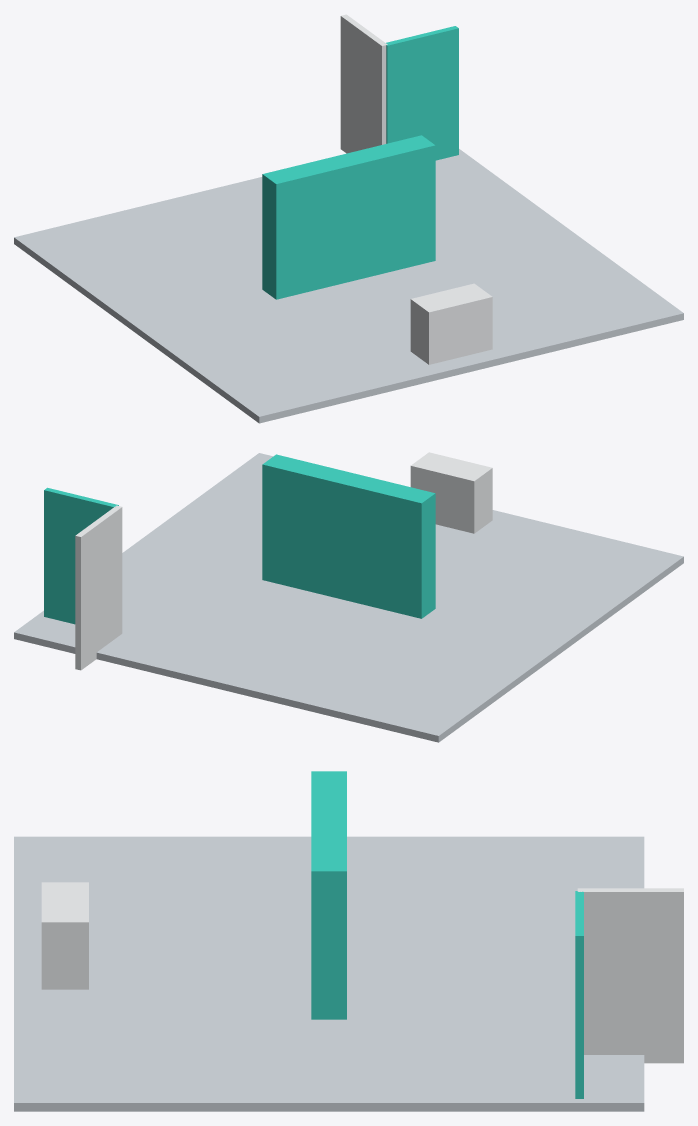
3 renders of one model, top to bottom at view 1: azimuth 30°, elevation 25°; view 2: azimuth 150°, elevation 25°; view 3: azimuth 270°, elevation 25°, orthographic. The views are drawn at different scales.
Visible parts, largest first — view 1: Exhibition Booth Concept; view 2: Exhibition Booth Concept; view 3: Exhibition Booth Concept.
Boxes of the visible parts, box(x1,y1,x2,y2) form: Exhibition Booth Concept: box(14, 14, 683, 423); Exhibition Booth Concept: box(14, 452, 683, 742); Exhibition Booth Concept: box(14, 771, 683, 1111).
Bounding box in the file's own units: 8 × 2.4 × 8.51.
